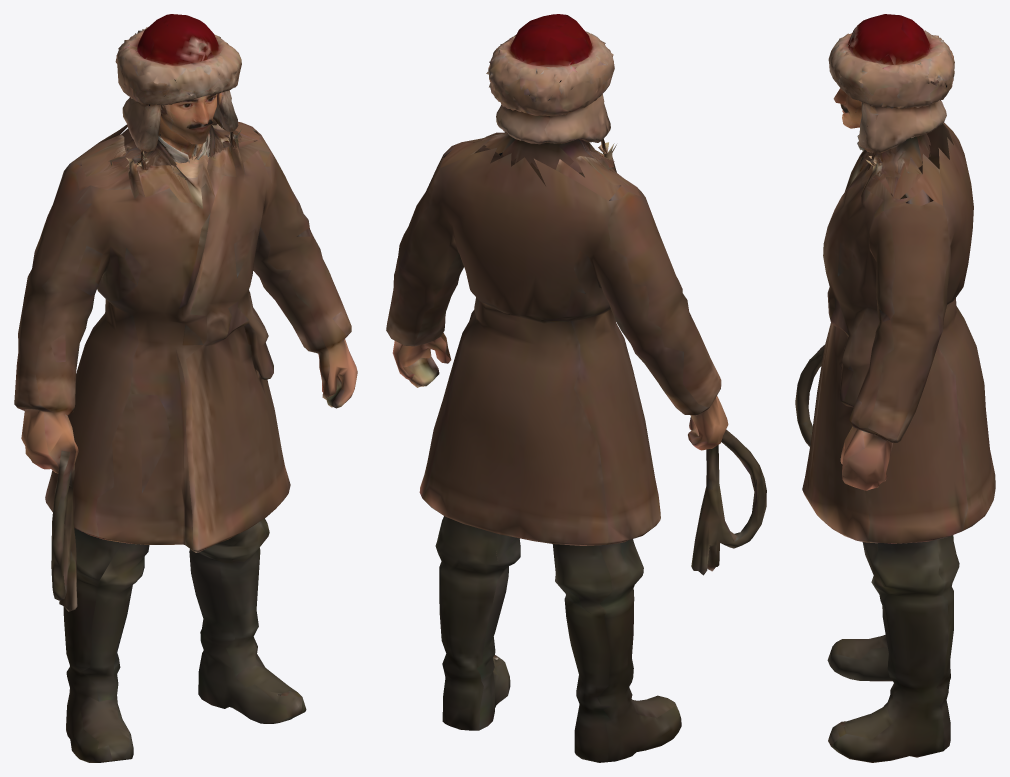
File: herder-dauren.gen.phone.glb
3 views of the same model, side by side, from view 1: azimuth 30°, elevation 25°; view 2: azimuth 150°, elevation 25°; view 3: azimuth 270°, elevation 25° (orthographic).
Parts seen in each view (by area): view 1: herder-dauren.raw; view 2: herder-dauren.raw; view 3: herder-dauren.raw.
Boxes of the visible parts, box(x1,y1,x2,y2) form: herder-dauren.raw: box(14, 14, 357, 762); herder-dauren.raw: box(386, 14, 766, 762); herder-dauren.raw: box(795, 14, 995, 762).
Bounding box in the file's own units: 0.9165 × 1.85 × 0.4826.
1 material, 1 textured.
